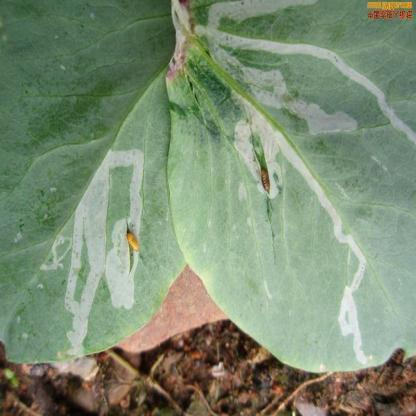whorl-maggot: (118, 222, 147, 262), (254, 160, 278, 204)
